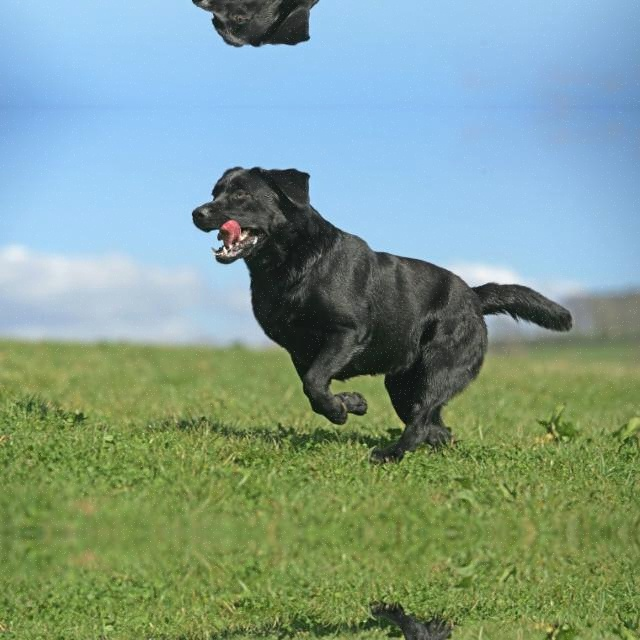dog: (171, 143, 562, 465), (171, 0, 562, 69), (171, 601, 562, 640)
